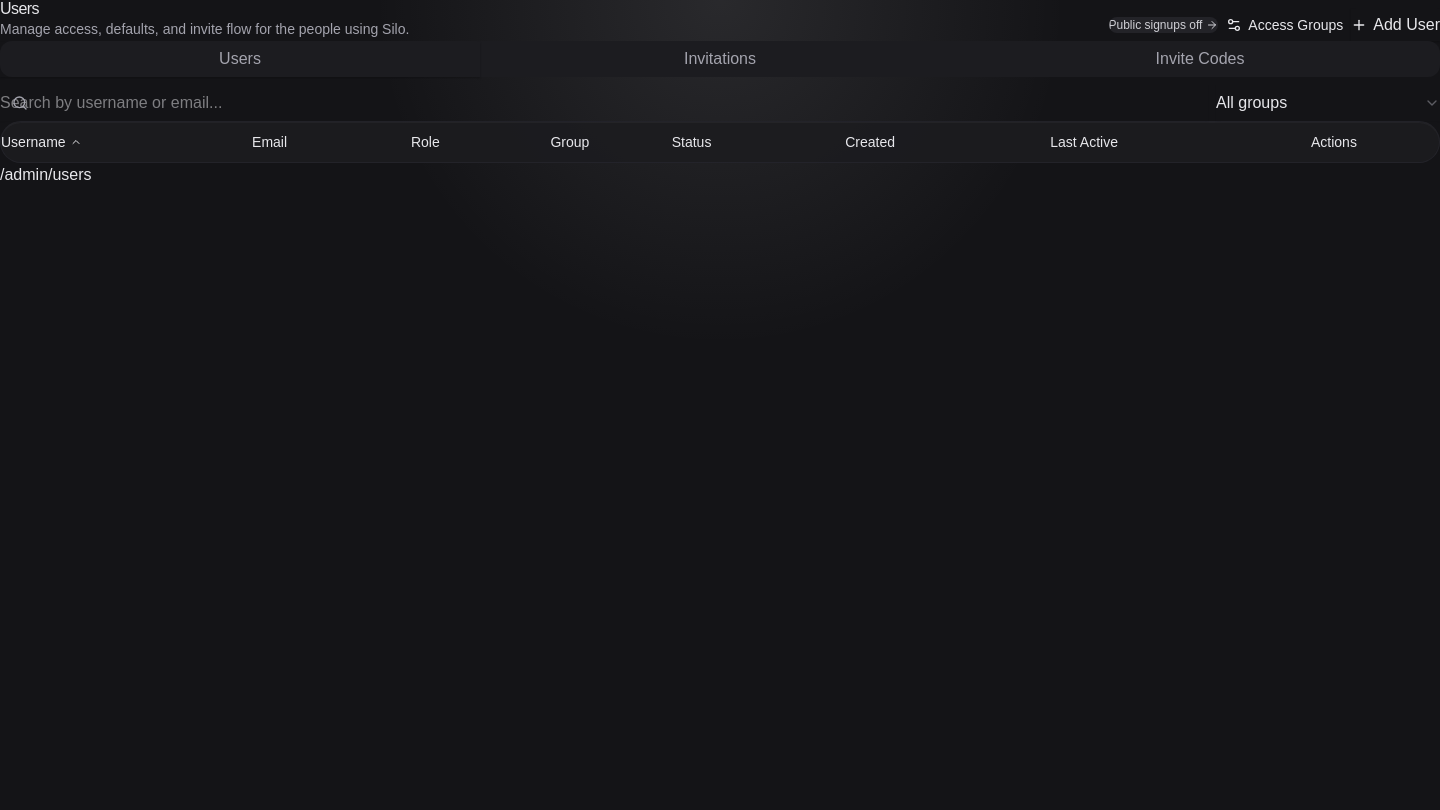
it: AdminUsers user dialog policy hints › previews the default group a new user joins
Click the button "Add User" at (1396, 25), box [1351,9,1439,41]
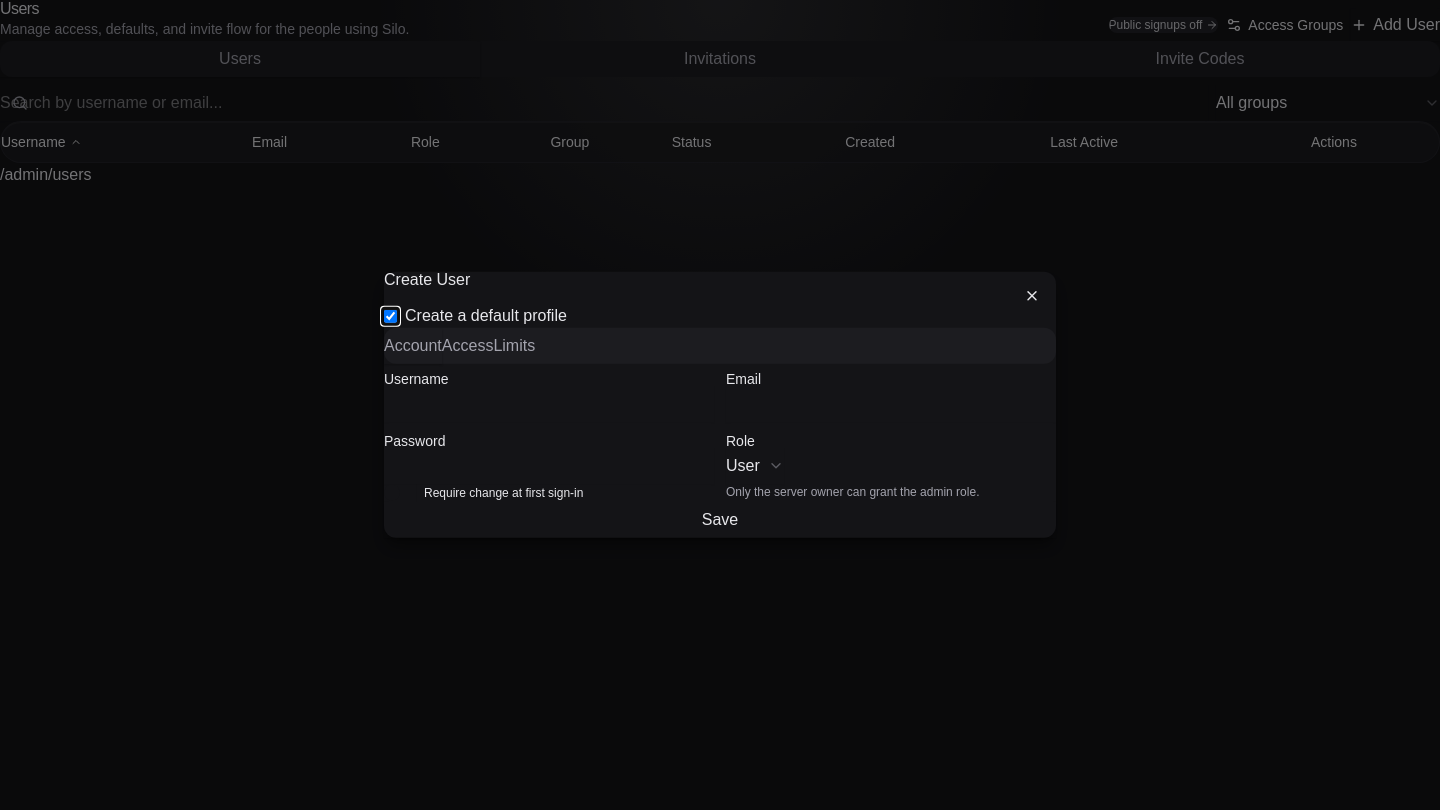
Click the tab "Limits" at (514, 346), box [493,328,535,363]
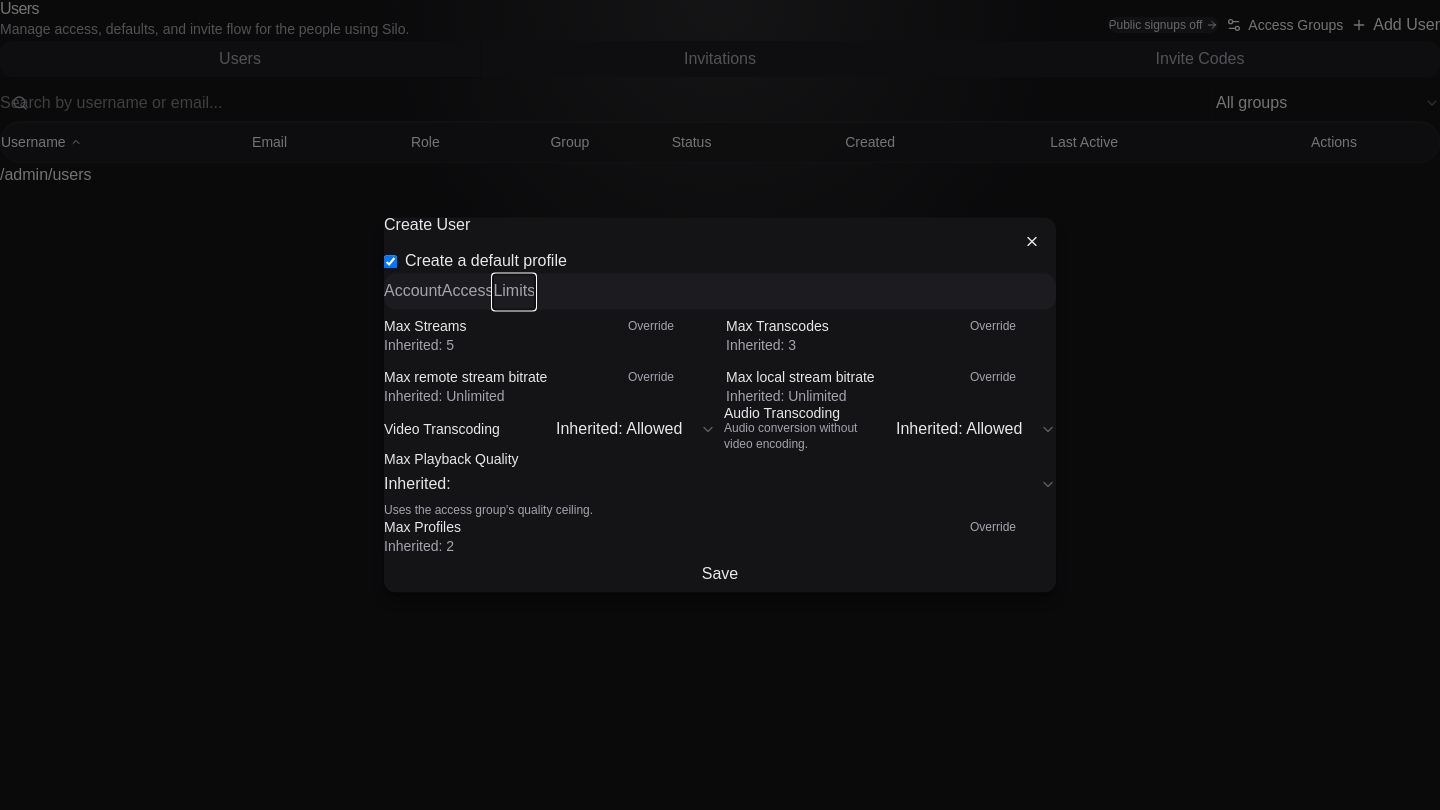
Result: the text "Inherited: 5" is shown at [384,338,454,354]
Result: the text "Inherited: 3" is shown at [726,338,796,354]
Result: the text "Inherited: 2" is shown at [384,539,454,555]
